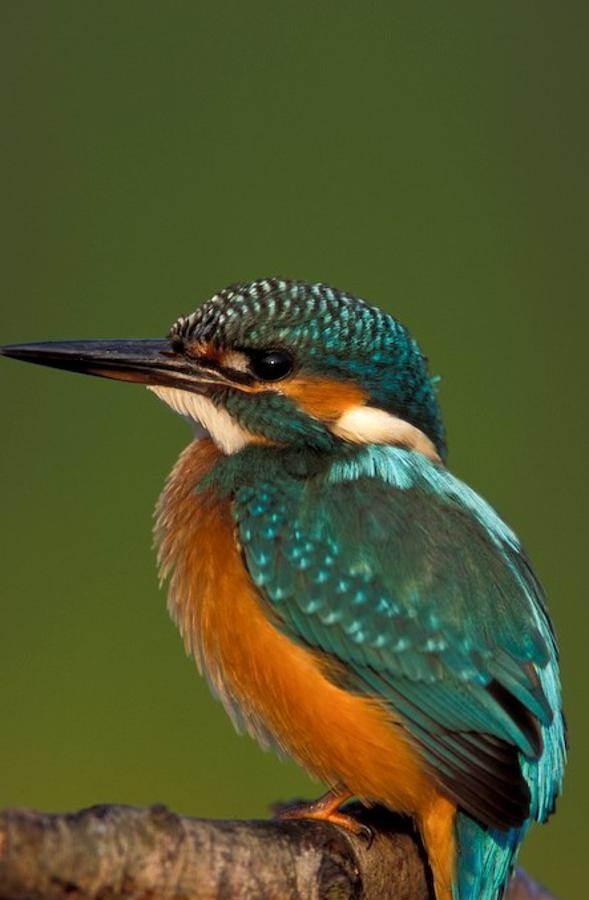kingfisher: (10, 274, 572, 881)
